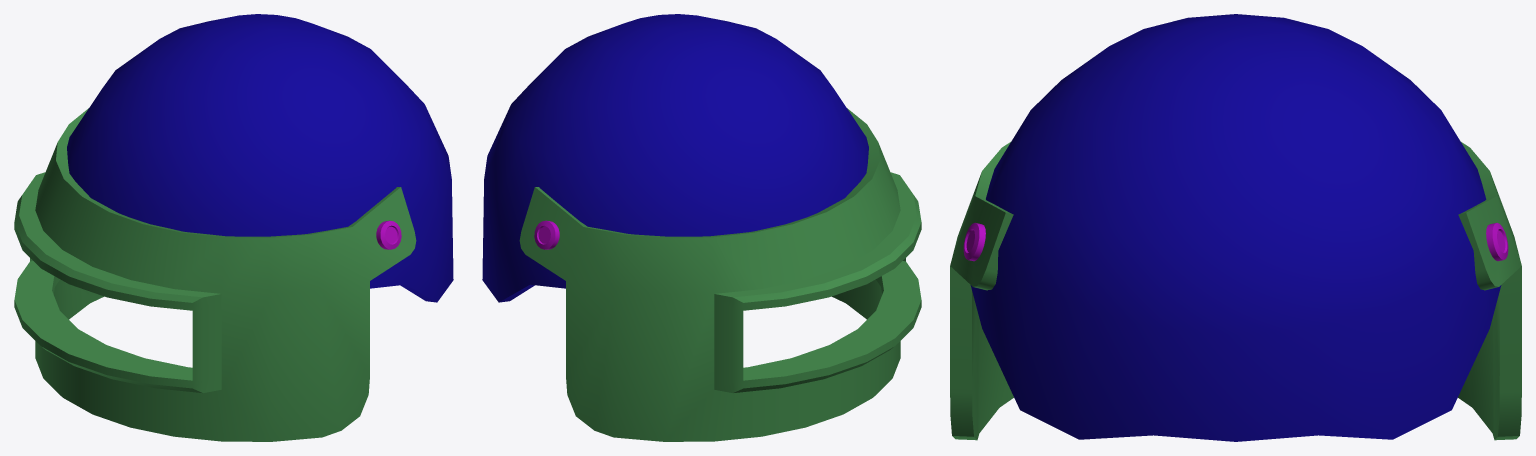
The model's file is max_pubg.FBX.
3 renders of one model, left to right at view 1: azimuth 30°, elevation 25°; view 2: azimuth 150°, elevation 25°; view 3: azimuth 270°, elevation 25°, orthographic. The views are drawn at different scales.
Visible parts, largest first — view 1: Object003; view 2: Object003; view 3: Object003.
Part boxes in pixels (x1=…): Object003: x1=14, y1=14, x2=453, y2=441; Object003: x1=482, y1=14, x2=921, y2=441; Object003: x1=950, y1=14, x2=1521, y2=441.
Bounding box in the file's own units: 354 × 278 × 345.
